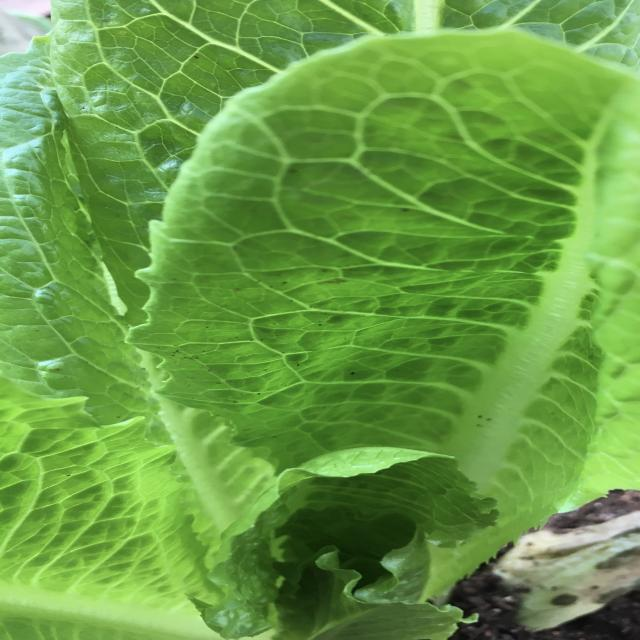Healthy Lettuce: (132, 33, 621, 451), (203, 444, 501, 638)
